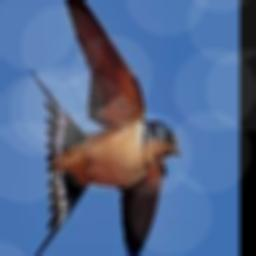Swallow: (29, 0, 184, 256)
